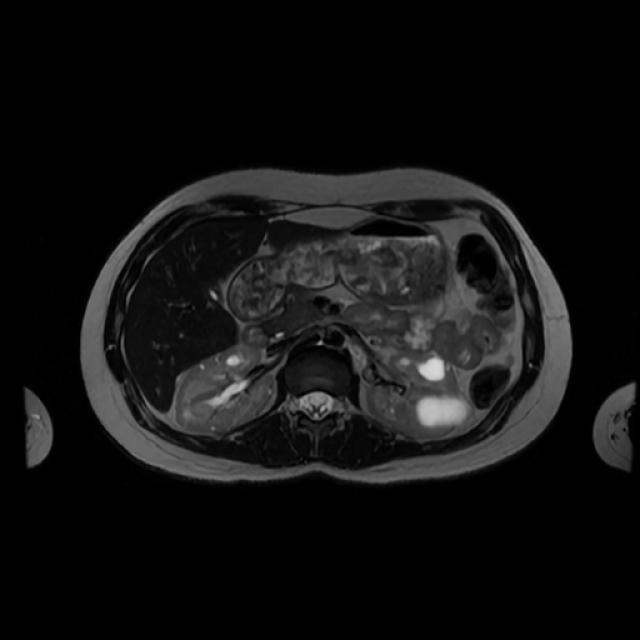sag: (172, 344, 274, 434)
sol: (365, 350, 476, 442)
